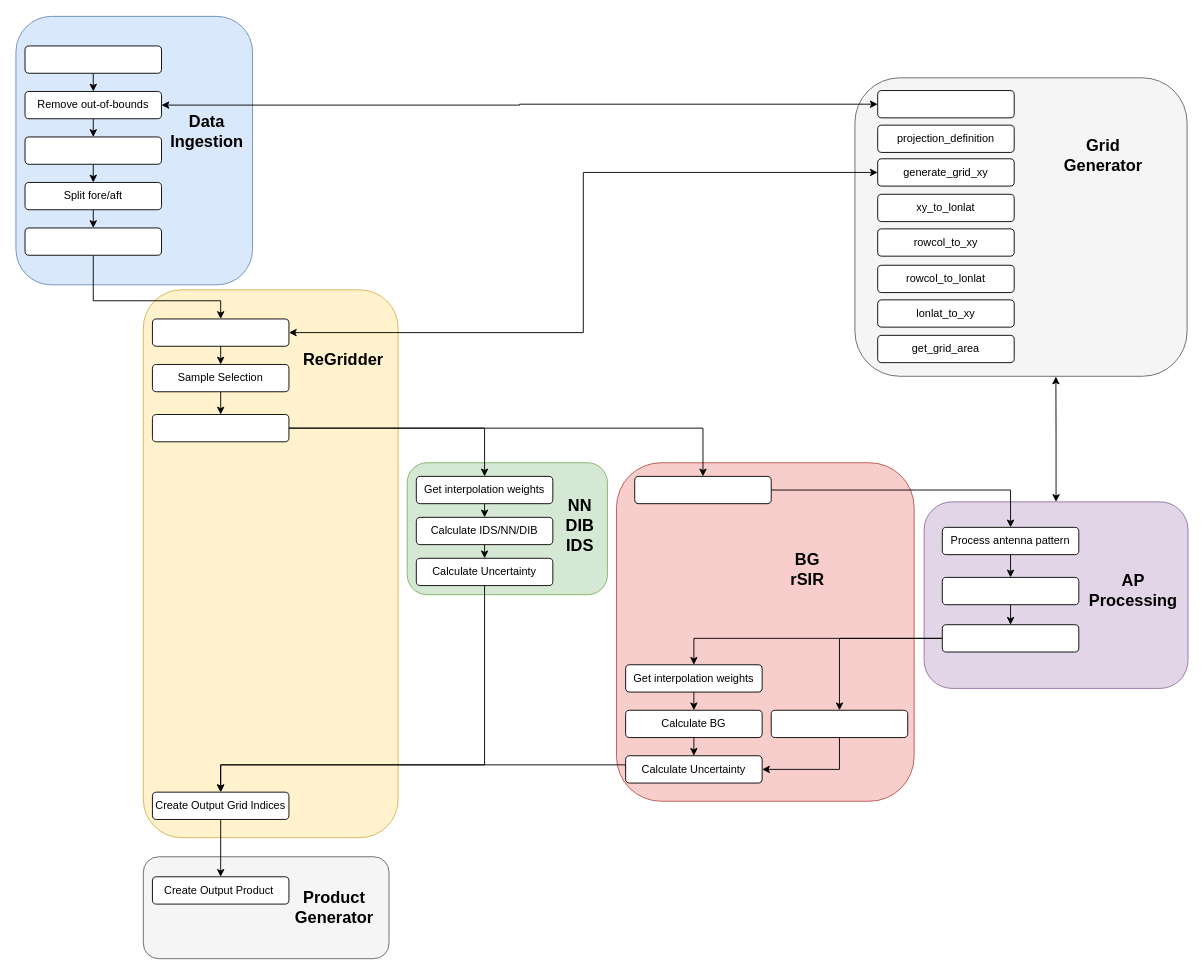
Some shapes in this 1204 by 975 pixel diagram are drawn without their labels. The centre of each missing label's shape, as x and y in pixels:
Combine feed horns: (x=93, y=150)
Create integration grid: (x=1010, y=590)
Get Target Grid: (x=220, y=332)
grid_definition: (x=945, y=104)
Initiate Antenna Pattern: (x=702, y=489)
Interpolate Variables: (x=220, y=428)
Project antenna pattern to Earth: (x=1010, y=638)
Quality Control: (x=93, y=241)
read netcdf/hdf5: (x=93, y=59)
rSIR: (x=839, y=723)
